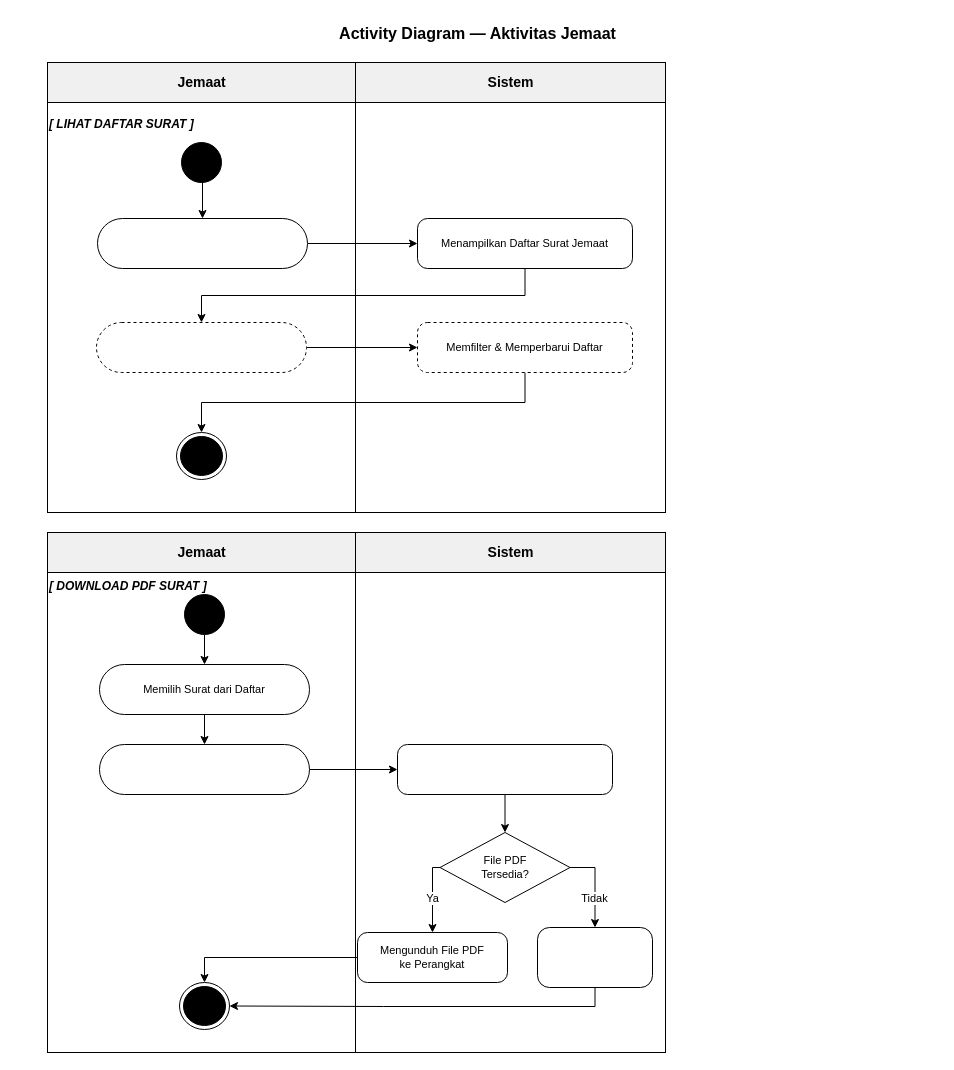
Image size: 954x1070. Some labels were removed from this diagram. The shapes that lost their labels are listed below. From the top down, each one's centre as x and y in pixels, then its label:
At pixel 202 243: "Membuka Menu Surat Saya".
At pixel 201 347: "Mencari Surat (Opsional)".
At pixel 204 769: "Menekan Tombol Unduh PDF".
At pixel 504 769: "Memeriksa Ketersediaan File PDF".
At pixel 594 957: "Menampilkan Pesan PDF Belum Tersedia".
